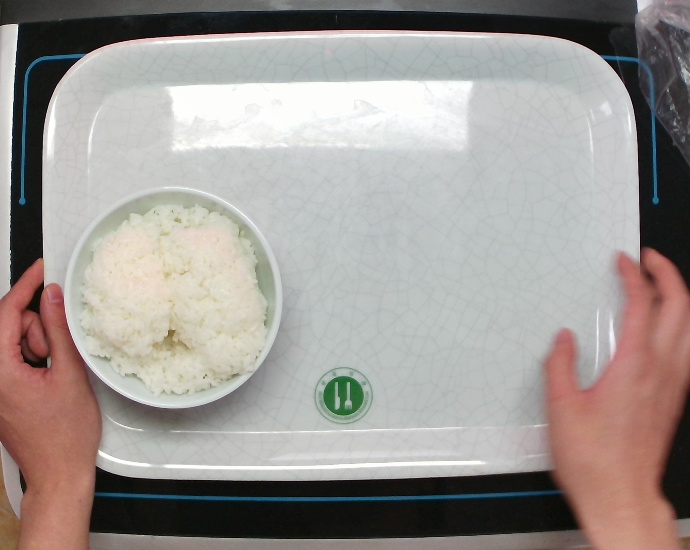JYsf-Fan_Wan: (60, 182, 287, 411)
